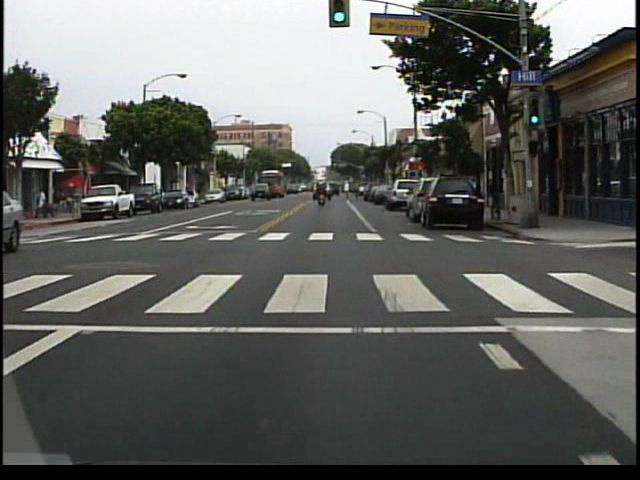person: (36, 183, 51, 220), (315, 184, 328, 211)
